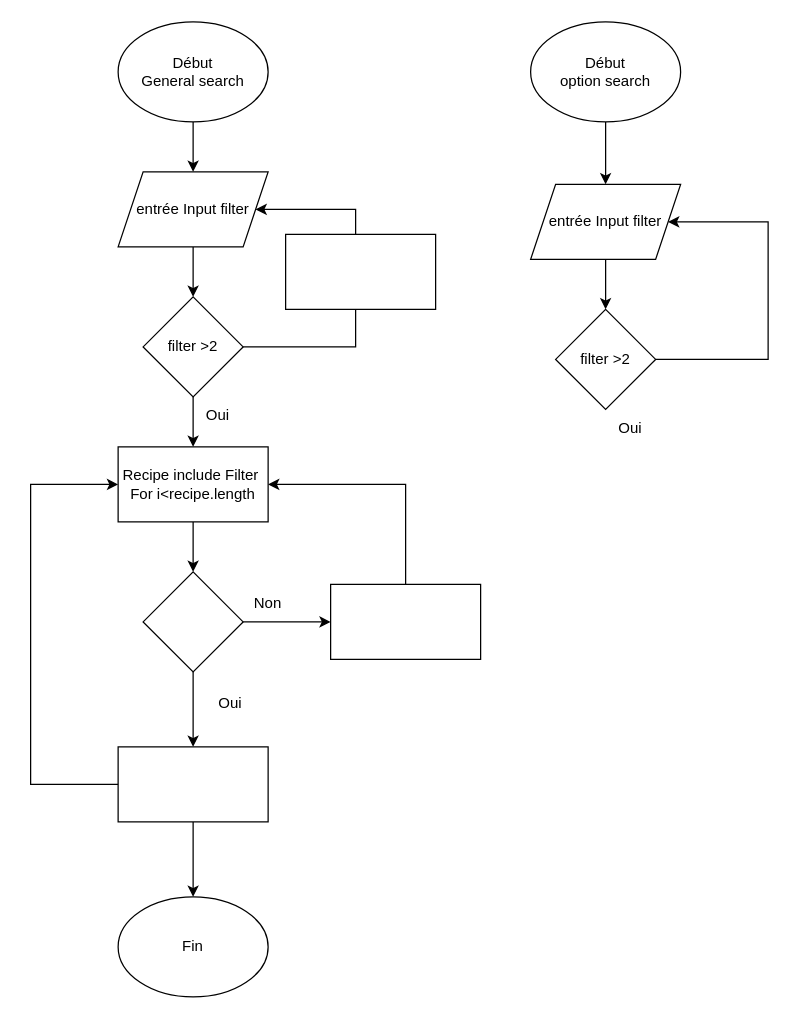
The diagram is 800 pixels wide and 1019 high, and some of its shapes have lost their labels. The shapes that lost their labels are listed below. From the top down, each one's box as (x1, y1, x2, y2) in pixels, then its label:
(284, 233, 436, 309): Init() dans le cas où on retire des caractéres
(142, 571, 243, 672): Si include
(329, 583, 481, 659): display none
(117, 746, 268, 822): localstorage newRecipe display:flex
